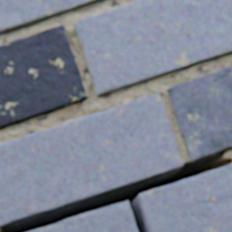brick: (0, 95, 181, 227), (74, 0, 231, 97), (0, 27, 86, 129), (138, 164, 231, 231), (167, 67, 231, 161), (0, 0, 106, 35), (32, 202, 136, 231)
crack: (0, 152, 231, 231)
